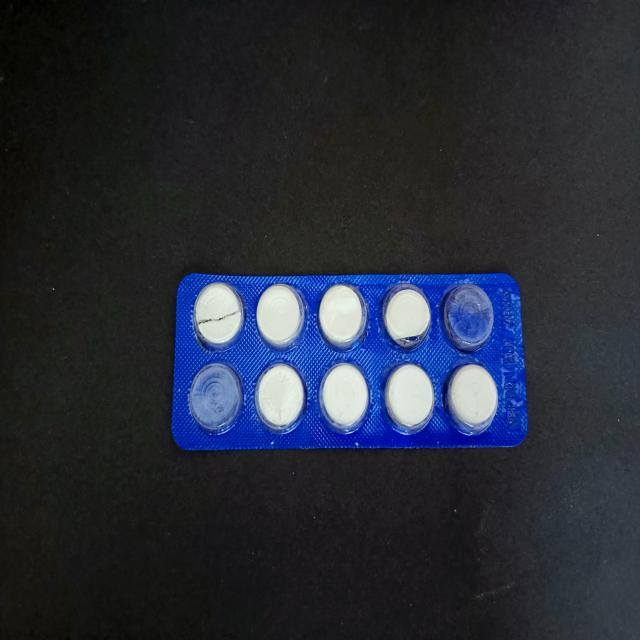defect: (189, 359, 245, 435), (441, 280, 497, 356), (192, 278, 246, 352), (381, 280, 434, 353)
